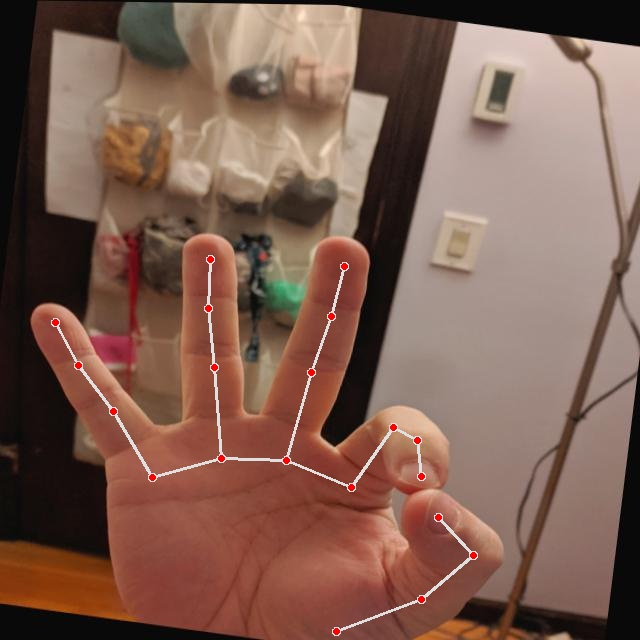F: (0, 187, 553, 639)
